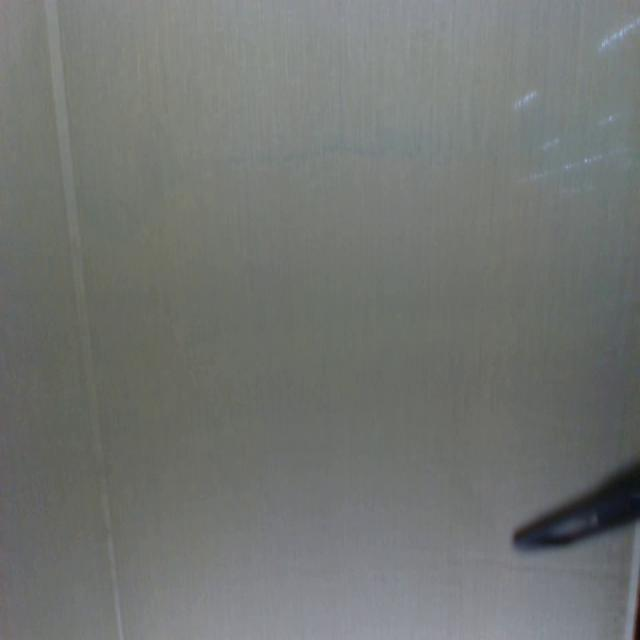color bleeding: (5, 122, 640, 250)
crease: (42, 0, 124, 637)
